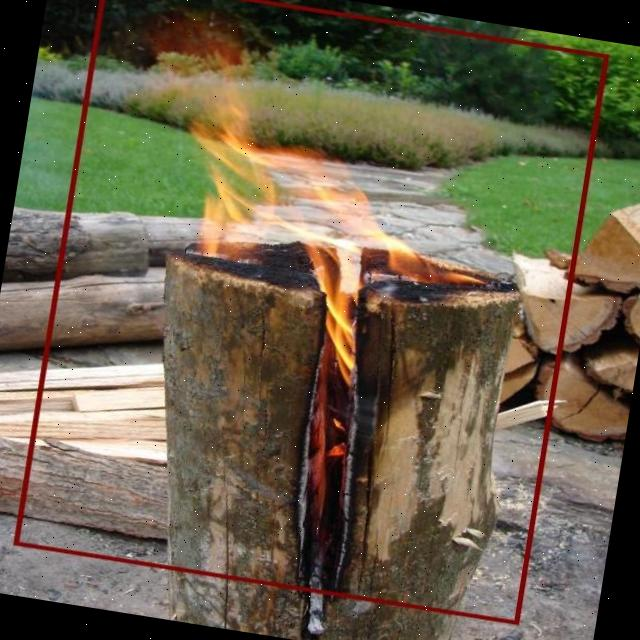fire: (13, 0, 608, 625)
